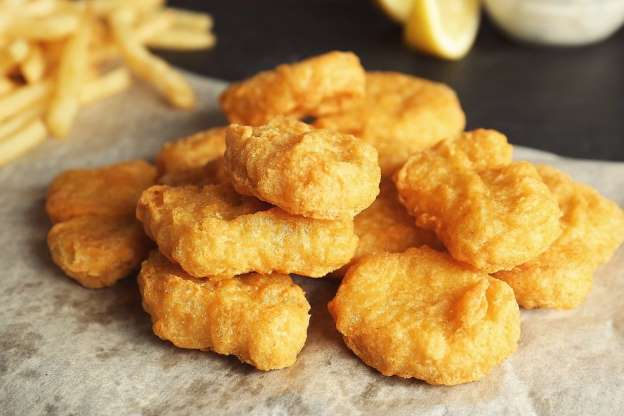chicken_nuggets: (41, 42, 624, 387)
